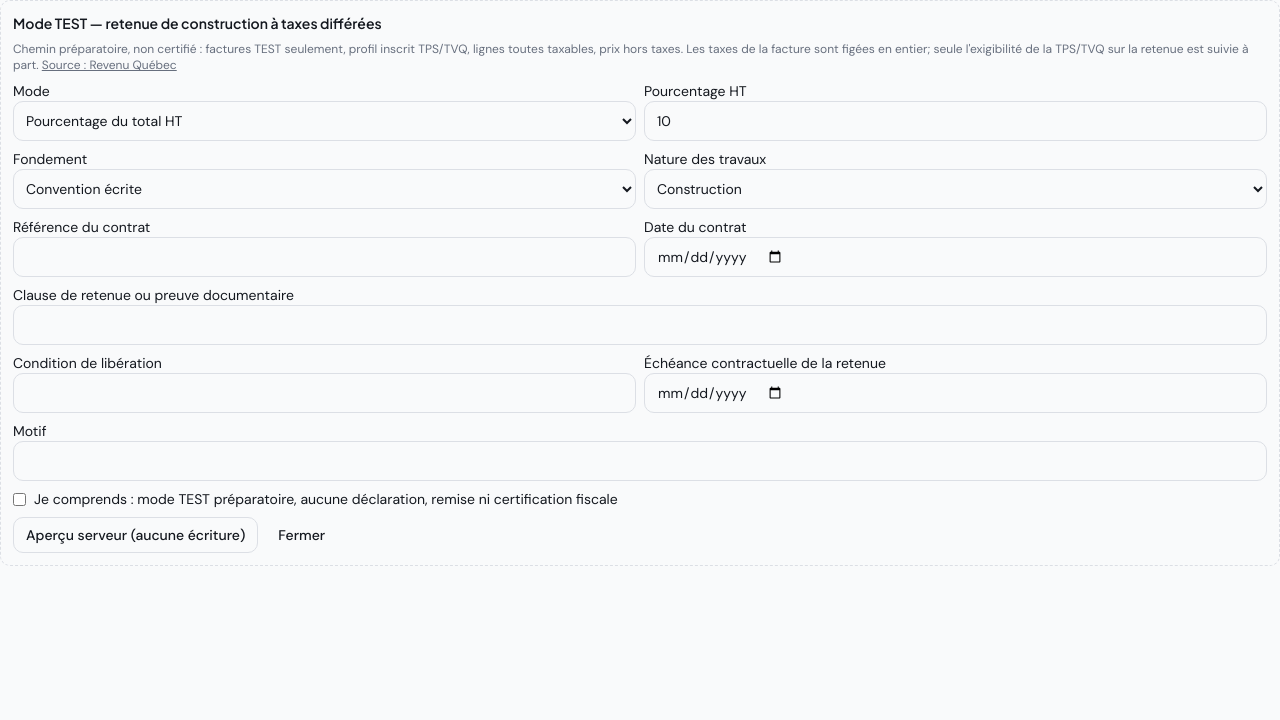
Scenario: FIN-09C2B1 — écran simulé › aperçu sans écriture, confirmation liée à l'empreinte, rejeu même clé après réponse perdue
Earlier steps of the test are not shown.
Later steps or results of the test are not shown.
Type "C-1" into the field labelled "Référence du contrat".
click(324, 257); type("C-1")  # box [13,237,636,277]
Type "2026-09-01" into the date field labelled "Date du contrat".
click(956, 257); type("2026-09-01")  # box [644,237,1267,277]
Type "Art. 7" into the field labelled "Clause de retenue".
click(640, 325); type("Art. 7")  # box [13,305,1267,345]
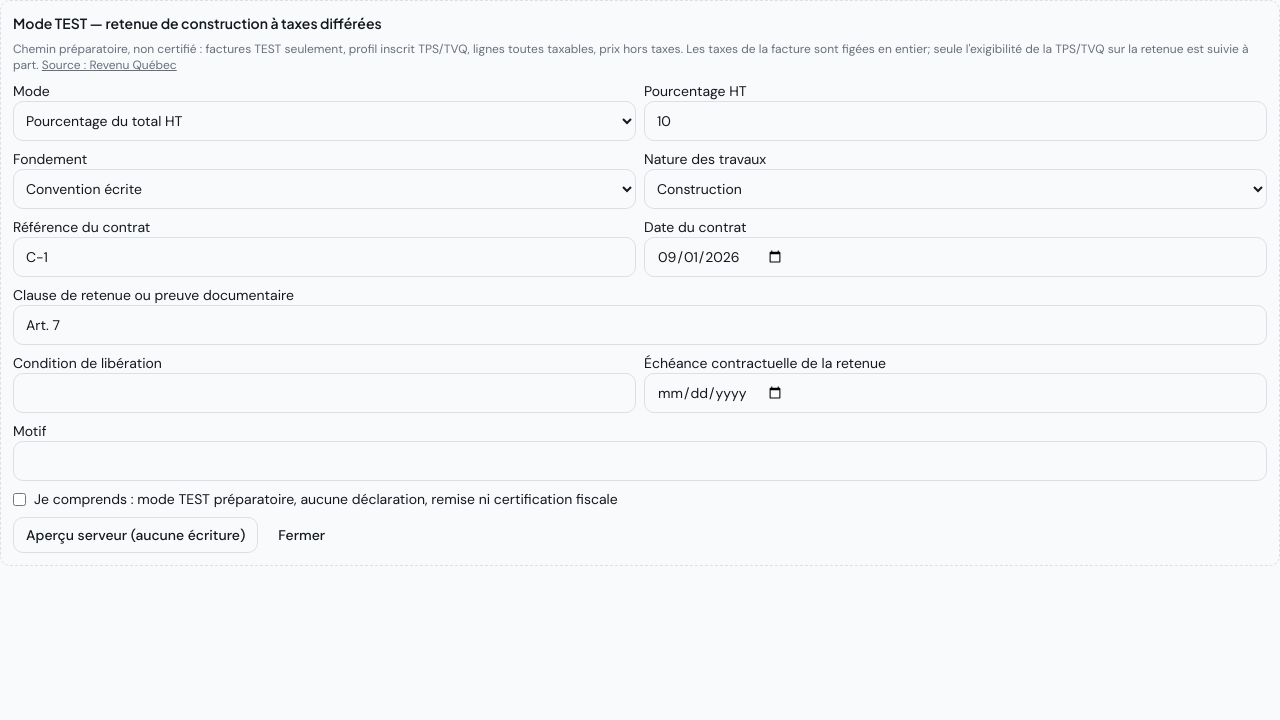
Type "Réception" into the field named "Condition de libération (construction)".
click(324, 393); type("Réception")  # box [13,373,636,413]
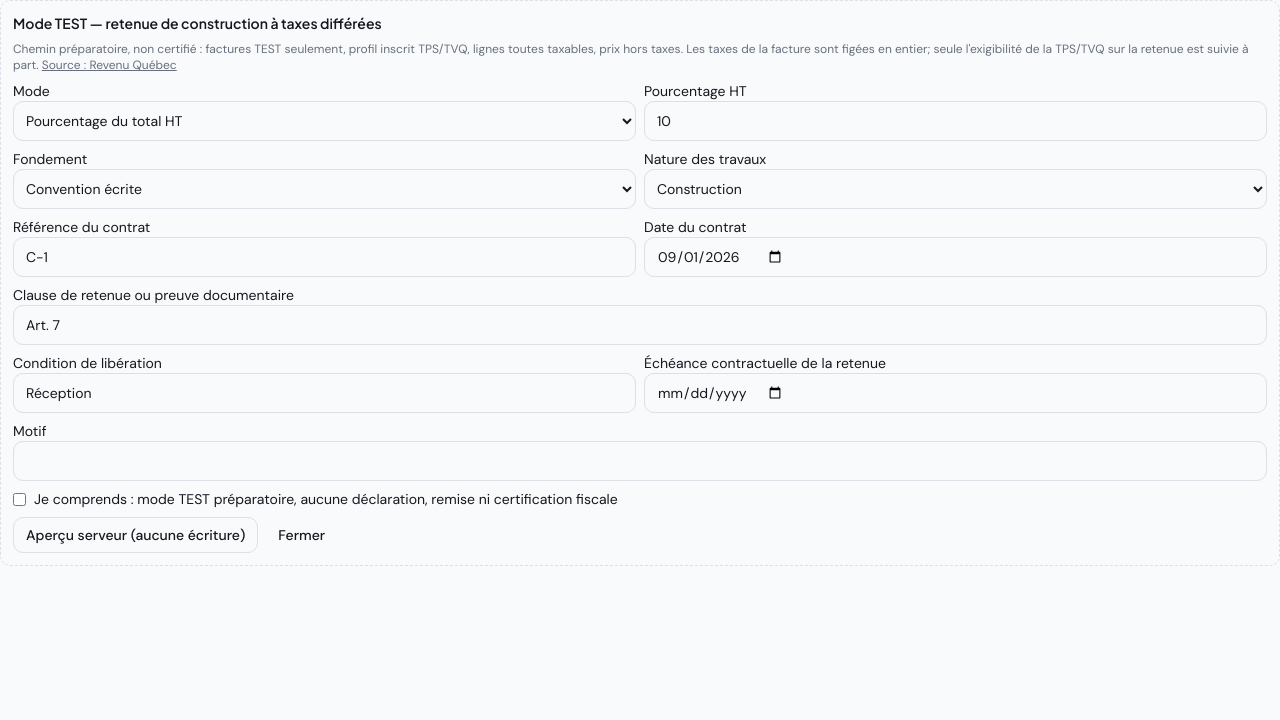
Type "2027-01-15" into the date field labelled "Échéance contractuelle".
click(956, 393); type("2027-01-15")  # box [644,373,1267,413]
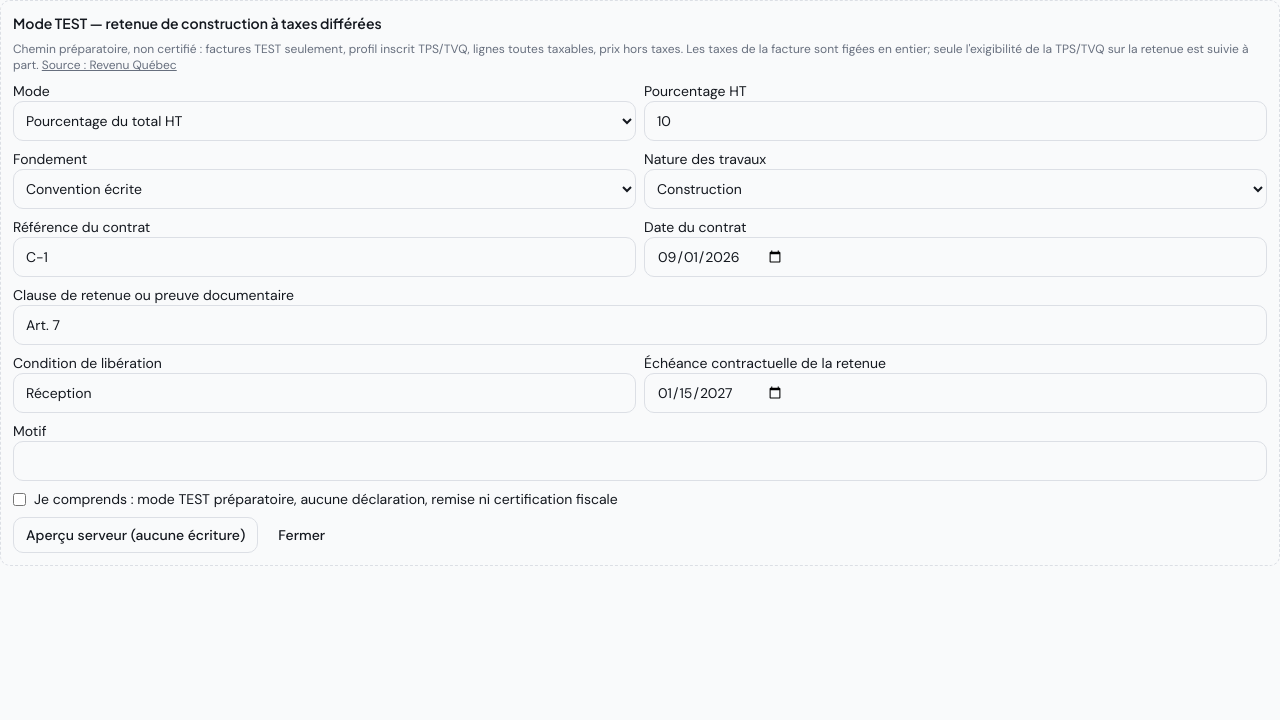
Type "R" into the field named "Motif (construction)".
click(640, 461); type("R")  # box [13,441,1267,481]
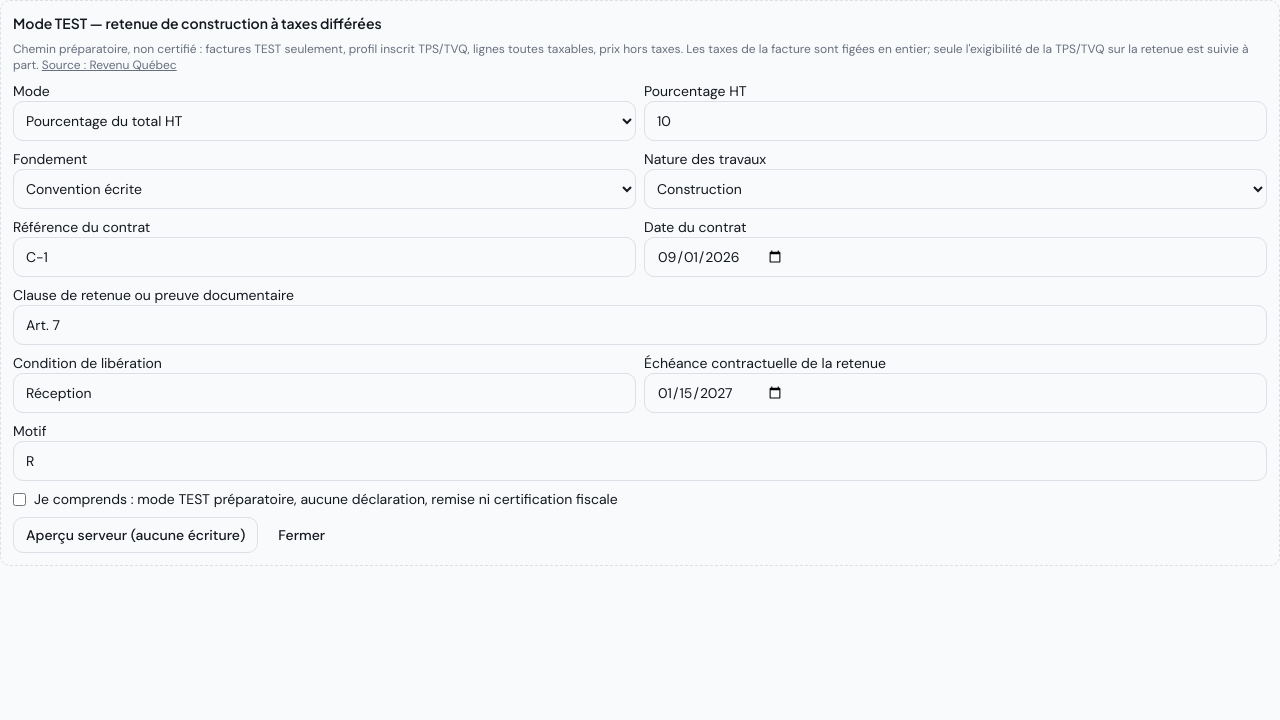
Click the checkbox labelled "Je comprends : mode TEST".
click(20, 499)  # box [13,492,26,506]
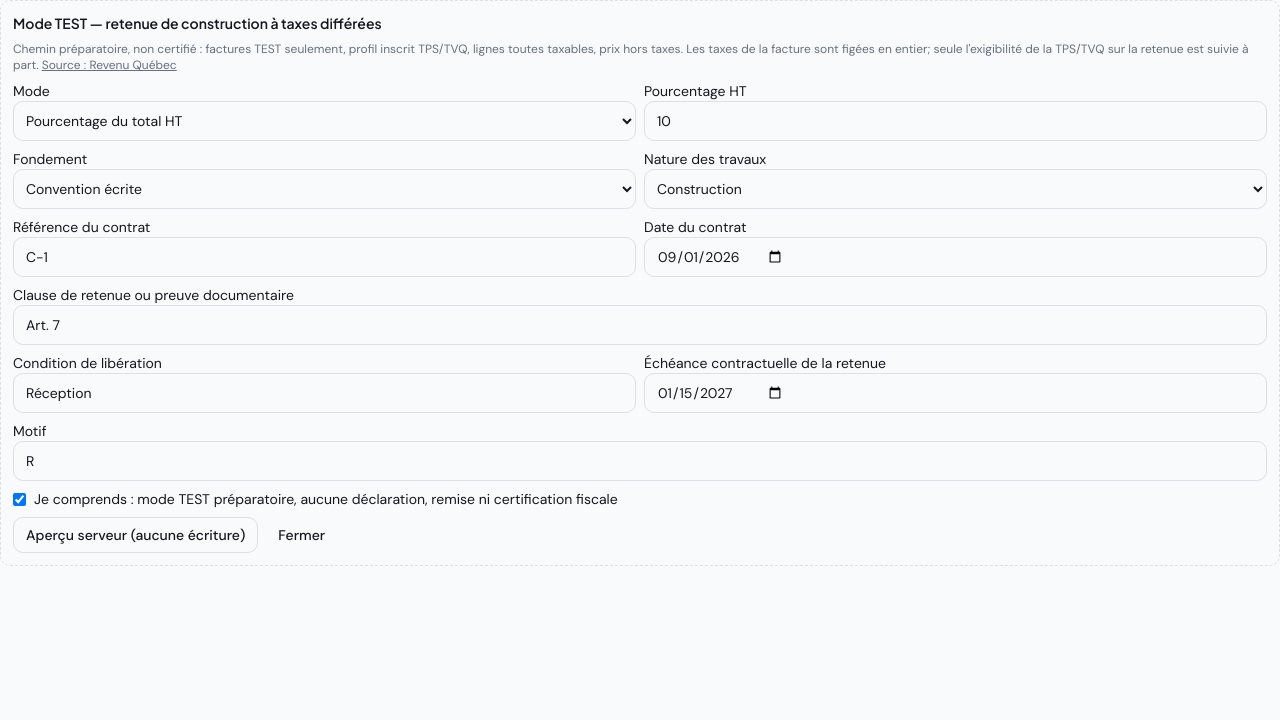
Click the button "Aperçu serveur (aucune écriture)".
click(136, 535)  # box [13,517,258,553]
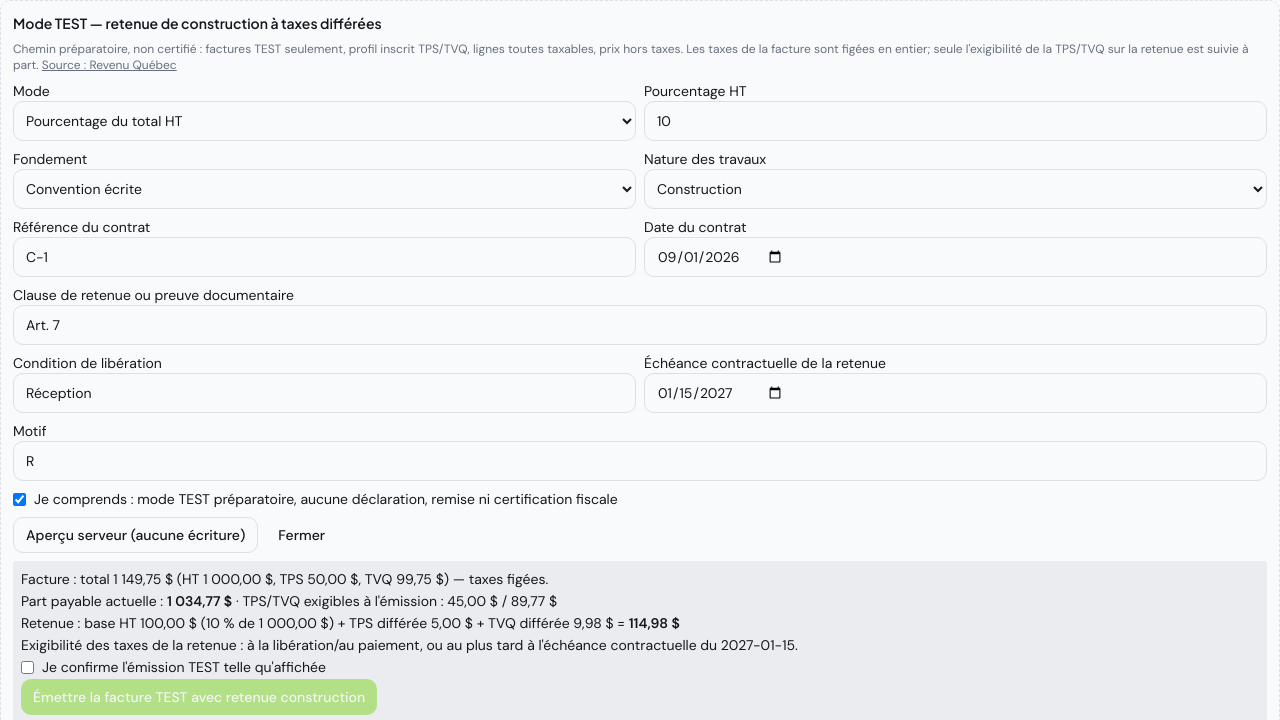
Result: the element with test id "ctax-preview" shows "114,98" at [629,614,680,632]
Result: the button "Émettre la facture TEST avec retenue construction" is disabled at [21,679,377,715]
